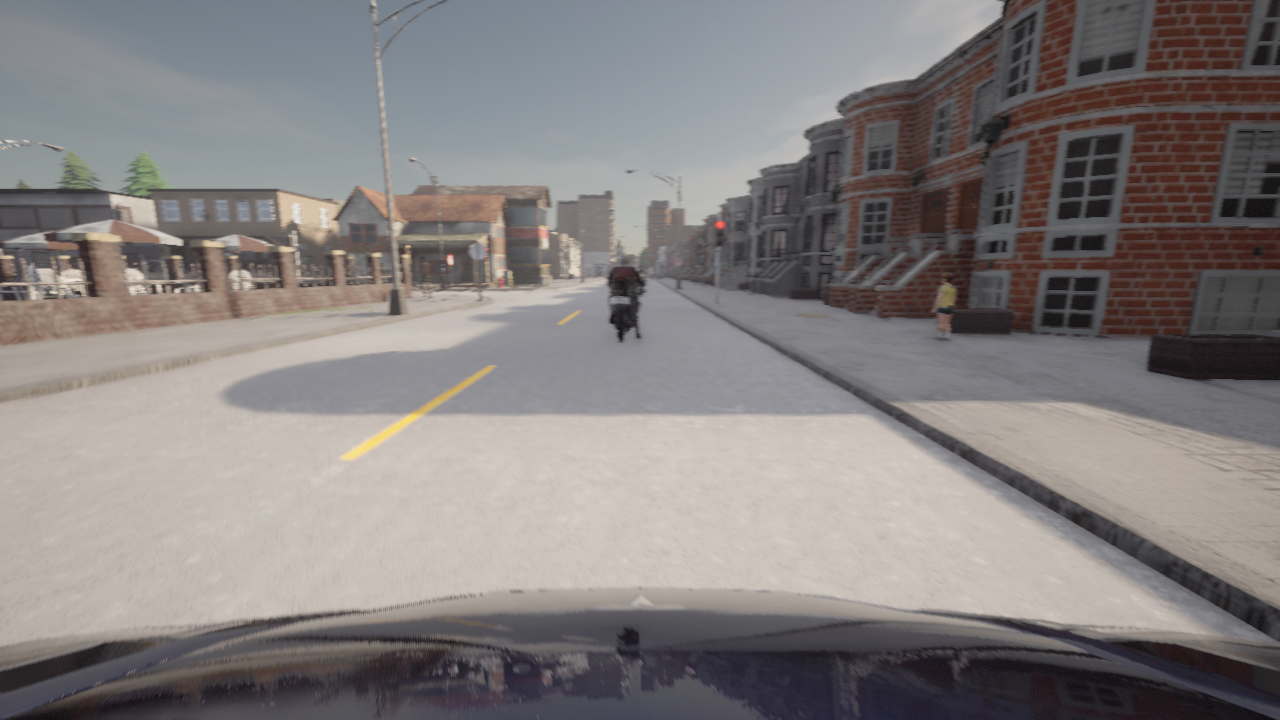cyclist: (0, 588, 1279, 719), (606, 273, 647, 341), (638, 288, 645, 295)
pedestrian: (933, 273, 955, 340), (420, 255, 431, 297), (197, 277, 198, 278)
